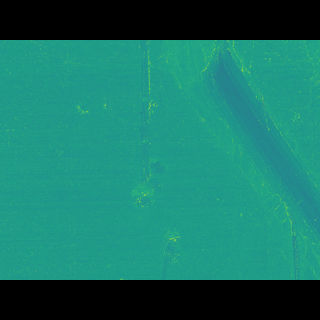Loch: (157, 70, 320, 249), (122, 69, 162, 178), (126, 159, 168, 199), (154, 211, 186, 238)
